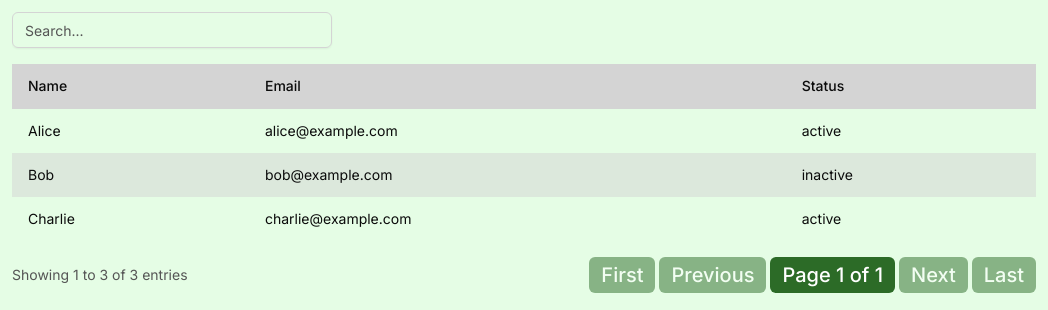
Test case: DataTable › filtering › should filter data based on search input
Step 1. Type "Alice" into the field with placeholder "Search..." → (172, 30), box x1=12 y1=12 x2=332 y2=48
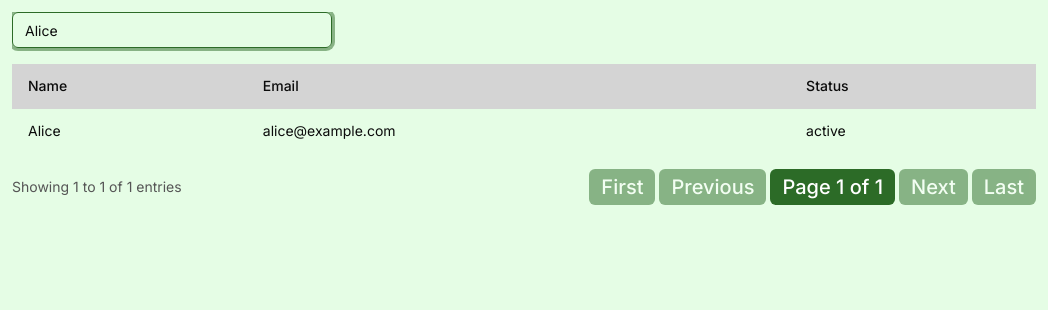
Expected: the text "Alice" is shown, x1=12 y1=108 x2=247 y2=153
Now the text "Bob" is gone
